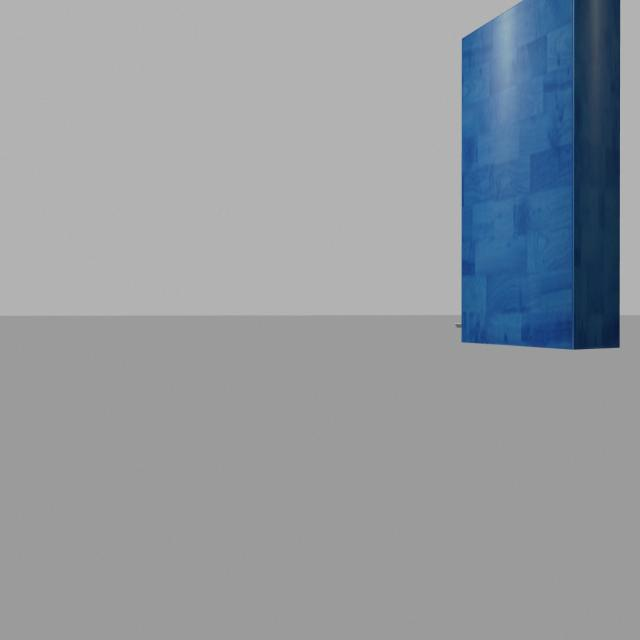bowl: (452, 318, 463, 333)
shelf: (461, 0, 629, 364)
